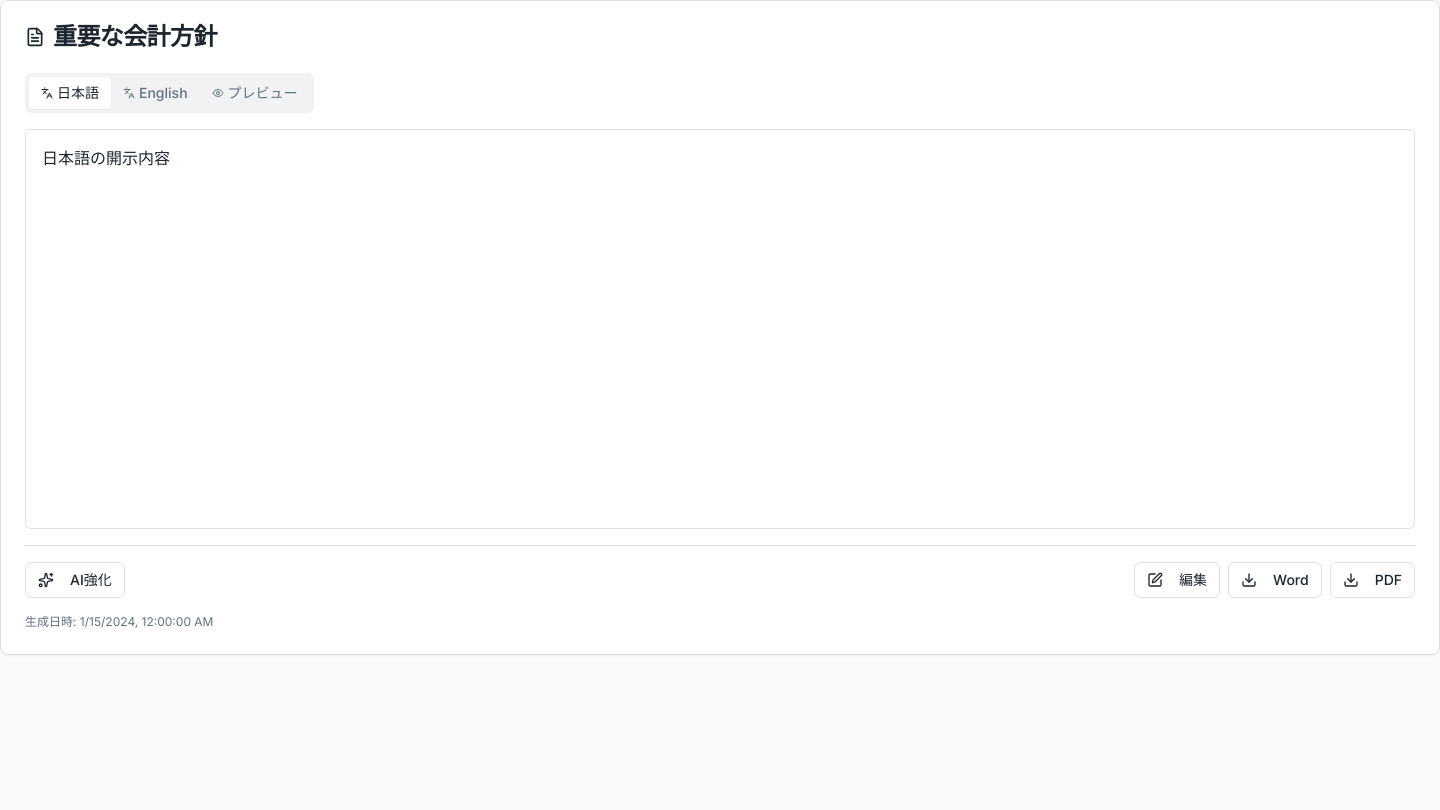
Test: DisclosureEditor — AI強化 › disables the AI強化 button while editing
The image size is (1440, 810).
Click the button "編集".
click(1177, 580)  # box [1134,562,1220,598]
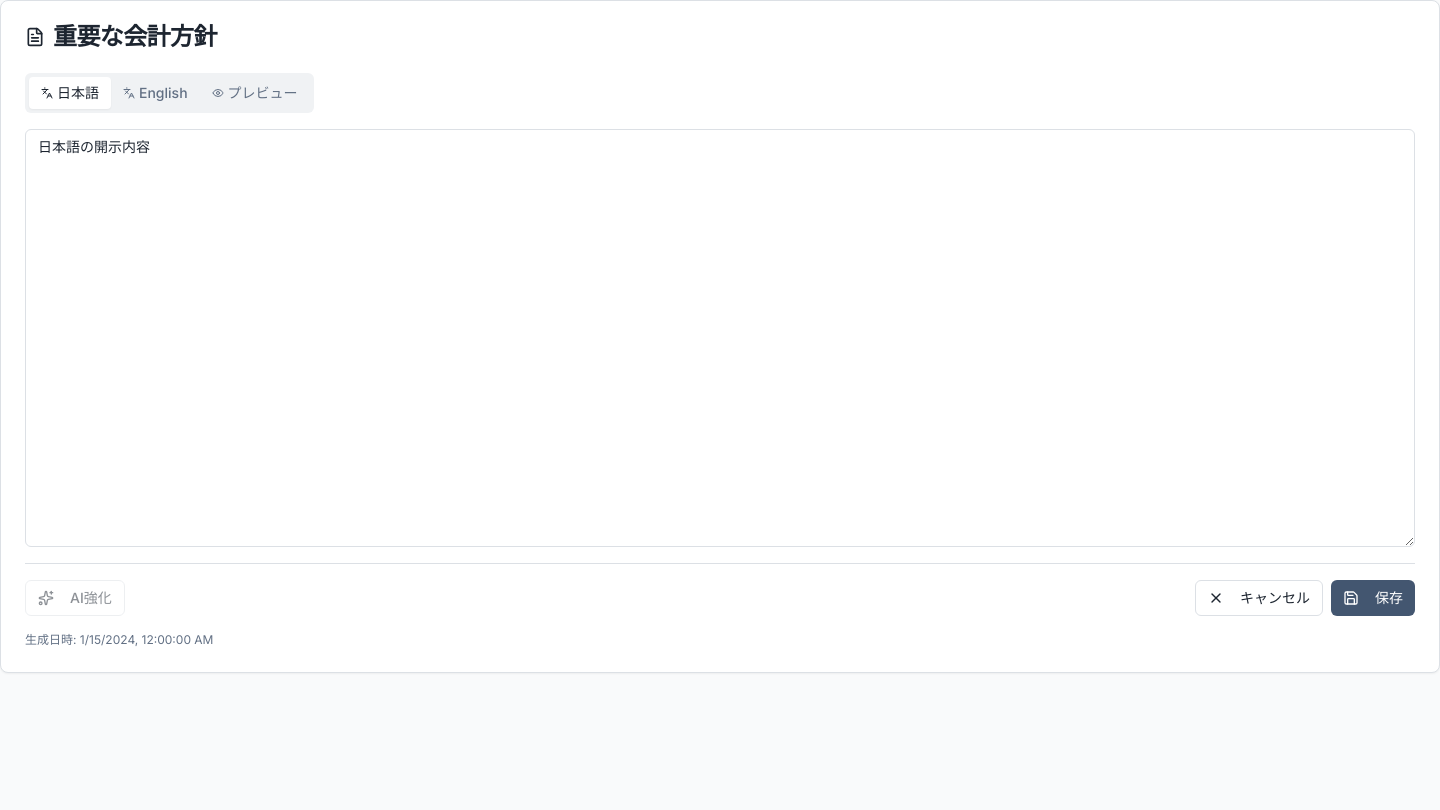
Now the button "AI強化" is disabled, box [25,580,125,616]
